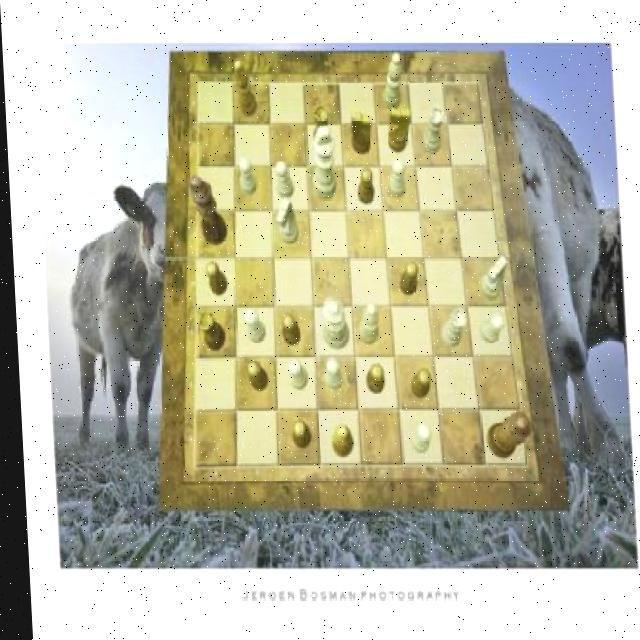bishop: (233, 59, 256, 116), (327, 424, 350, 458)
black-bishop: (187, 177, 226, 246)
black-king: (385, 108, 411, 153), (351, 112, 372, 155)
black-knight: (203, 262, 225, 296), (395, 262, 416, 296), (354, 168, 373, 204), (244, 362, 265, 392), (406, 368, 427, 398), (279, 314, 298, 346), (287, 420, 307, 448), (363, 364, 381, 394)
black-pawn: (483, 412, 529, 460)
black-queen: (196, 311, 223, 351), (311, 106, 330, 154)
black-rook: (381, 52, 403, 110), (355, 304, 377, 344)
white-bishop: (310, 125, 337, 199)
white-king: (477, 256, 506, 300), (273, 197, 297, 243)
white-knight: (476, 314, 502, 343), (242, 309, 263, 343), (274, 162, 293, 199), (284, 358, 305, 391), (237, 157, 255, 195), (387, 160, 405, 198), (405, 423, 427, 454), (319, 358, 338, 391)
white-pawn: (318, 297, 346, 351)
white-queen: (437, 308, 466, 348), (420, 106, 444, 154)
